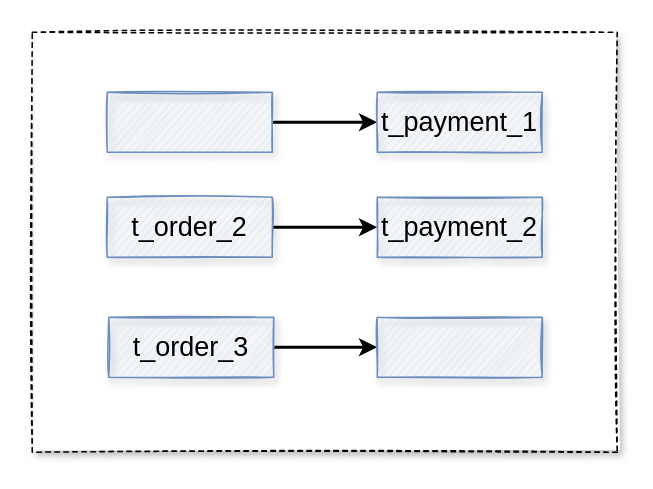
Some shapes in this 653 by 489 pixel diagram are drawn without their labels. The shapes that lost their labels are listed below. From the top down, each one's centre as x and y in pixels, then its label:
the point at 190,124: t_order_1
the point at 460,349: t_payment_3
